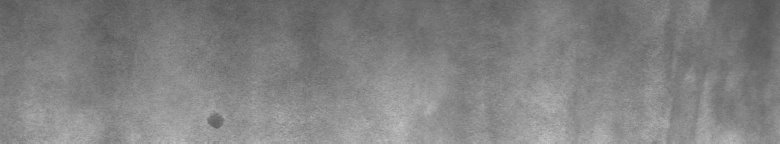fi: (203, 106, 228, 134)
